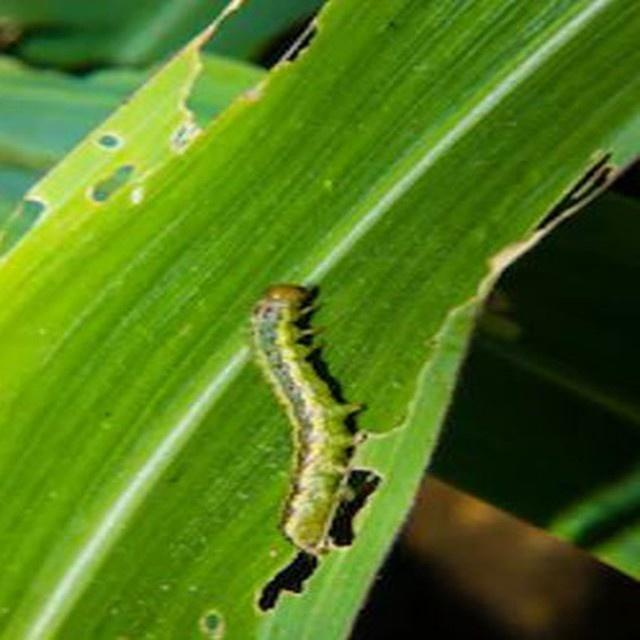gusano_cogollero: (246, 284, 368, 555)
